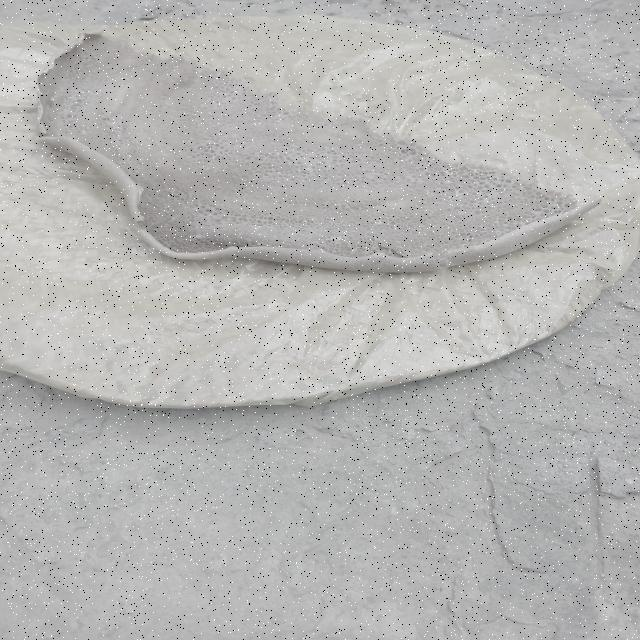injera_mold: (323, 230, 351, 242), (445, 189, 467, 200), (442, 166, 460, 178), (364, 232, 380, 240), (466, 166, 482, 174), (449, 251, 464, 259), (464, 230, 474, 240), (188, 234, 204, 240), (299, 168, 311, 176), (163, 203, 174, 210), (268, 186, 275, 193), (79, 130, 88, 135), (375, 220, 384, 225), (314, 233, 322, 237), (298, 180, 306, 184), (424, 242, 431, 246), (330, 224, 338, 227), (386, 222, 392, 225), (256, 242, 261, 245), (254, 227, 258, 230), (357, 214, 362, 216), (195, 226, 199, 228), (258, 226, 261, 228)
